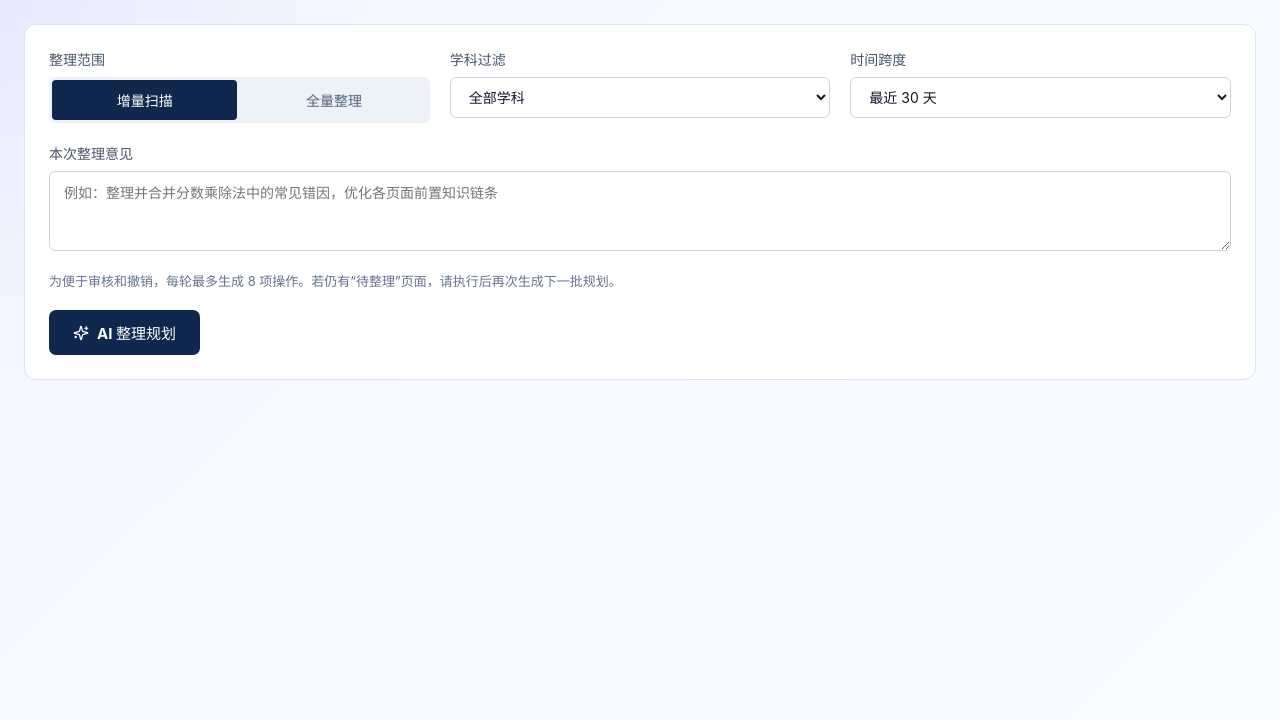
Test: merge plan summary › renders merge plans as a parent-readable summary without object placeholders
This screenshot has width=1280, height=720.
Click the button "AI 整理规划". click: (124, 332)
box: [49,310,200,355]
(page scrolled)
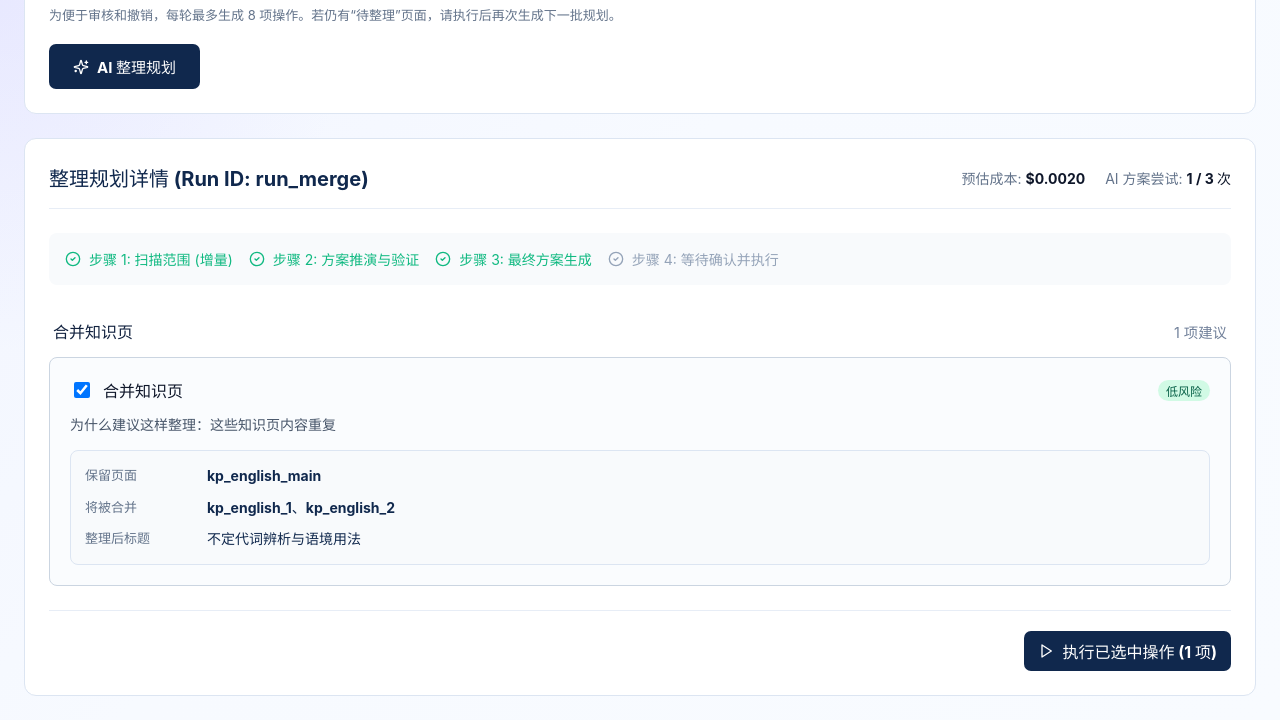
Result: the text "合并知识页" is shown 2 times at [53,319,133,343]; [103,378,183,402]
Result: the text "保留页面" is shown at [85,467,137,483]
Result: the text "将被合并" is shown at [85,499,137,515]
